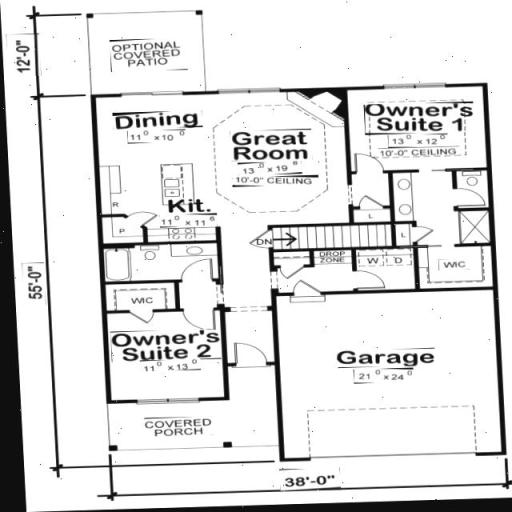Room: (360, 94, 486, 248), (108, 249, 220, 399)
garage: (284, 302, 510, 460)
hall: (228, 95, 346, 238)
kitchen: (106, 98, 222, 240)
porch: (107, 416, 280, 454)
